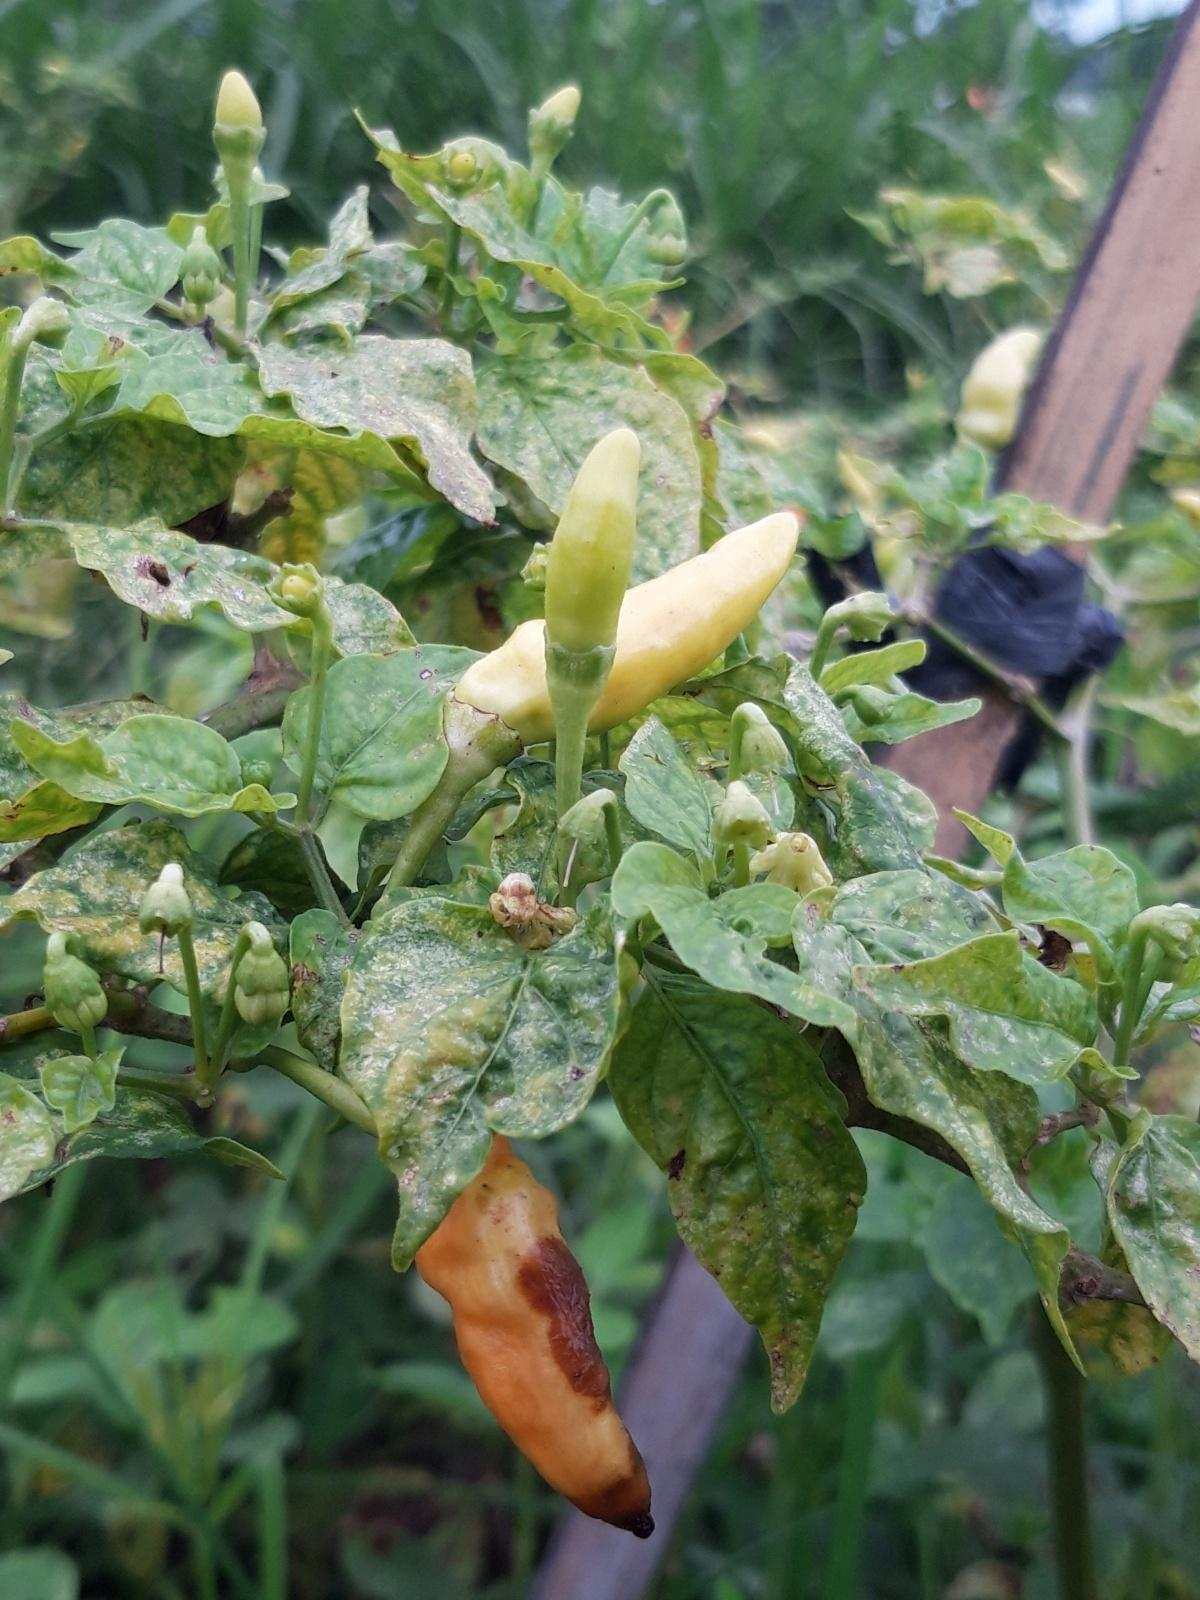cabai_normal: (453, 508, 802, 753), (539, 428, 644, 683)
lalat_buah: (386, 1120, 654, 1540)
